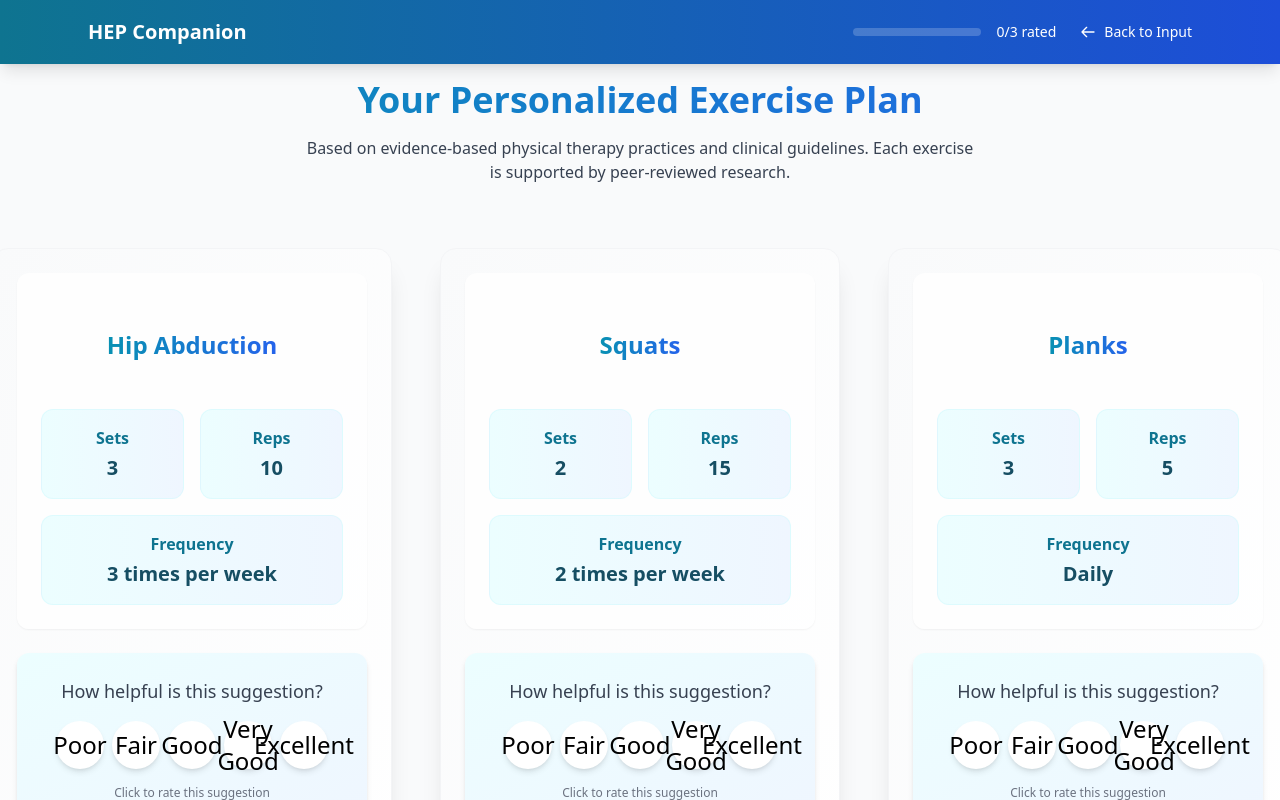
Test: ExerciseSuggestionsDisplay Component › displays a comment textarea after rating
Expected: the field with placeholder "What made this suggestion helpful" is not shown
// Click the first rating button
Click the radio button labelled "Poor" below "3 times per week". click: (80, 745)
box: [56,721,104,769]
(page scrolled)
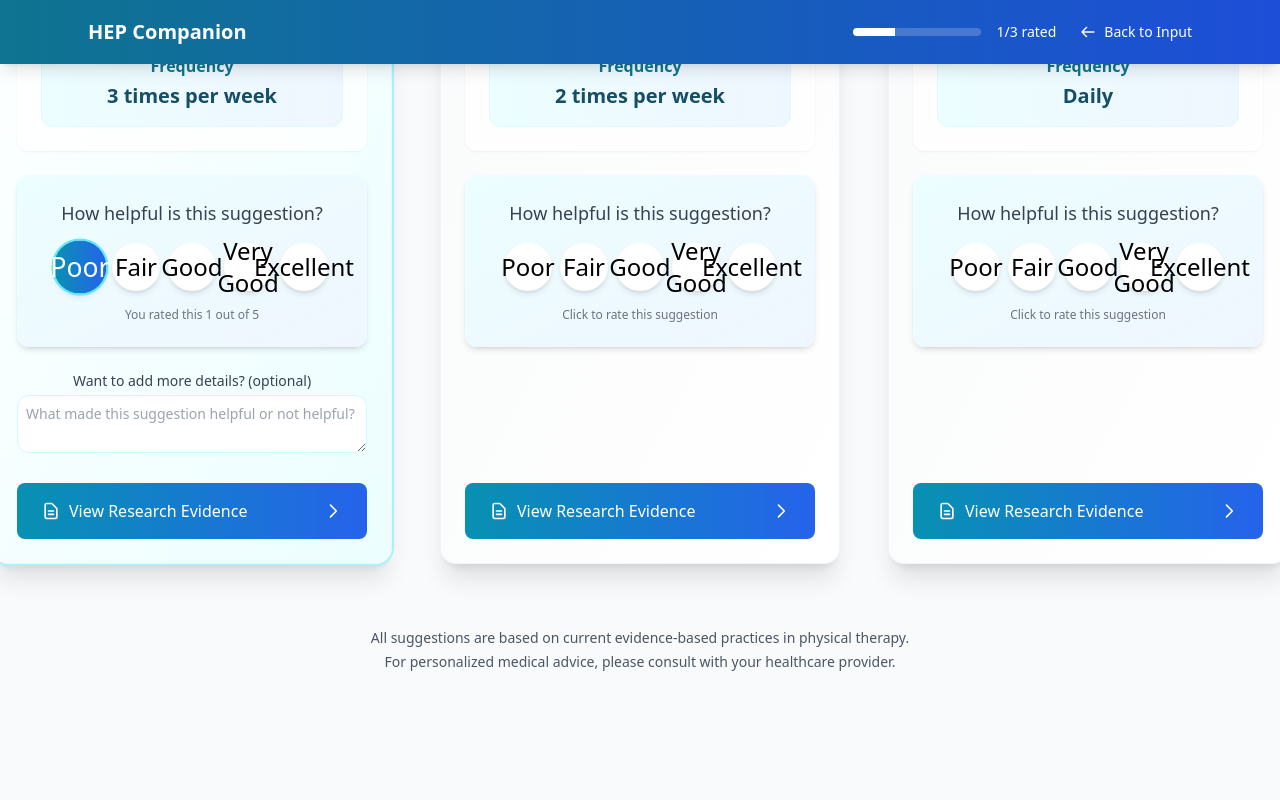
Result: the text box with placeholder "What made this suggestion helpful or not helpful?" is shown at [17,395,367,453]
